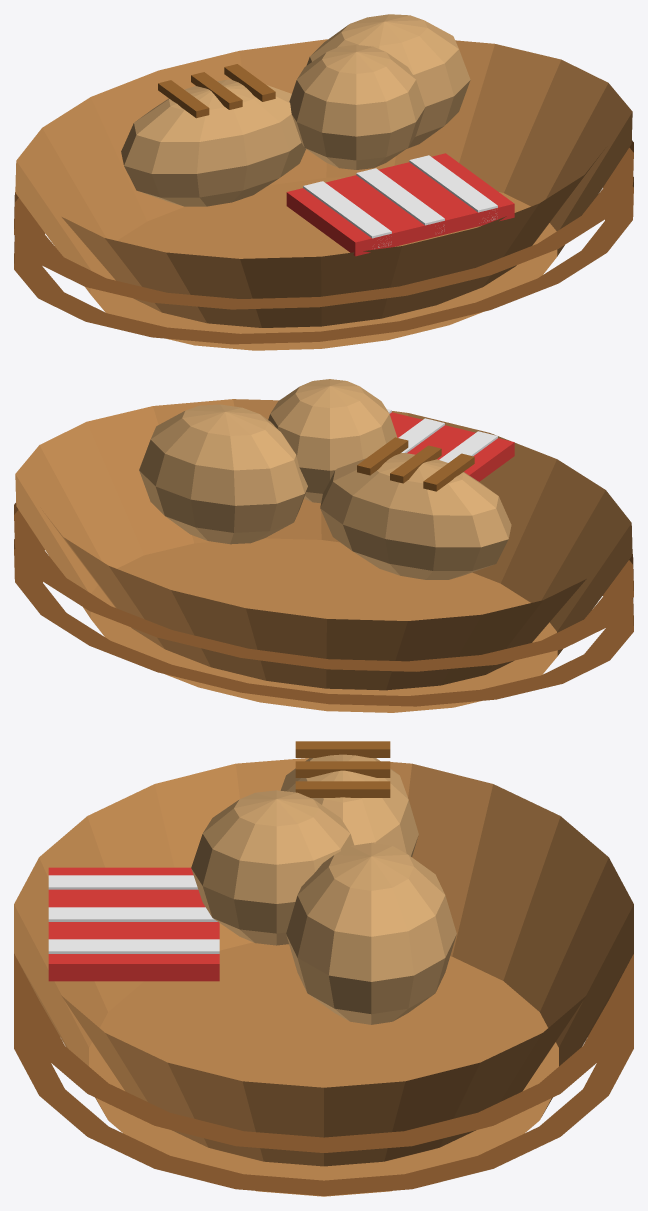
Rendered from brodkorg.glb.
3 views of the same model, one above another, from view 1: azimuth 30°, elevation 25°; view 2: azimuth 150°, elevation 25°; view 3: azimuth 270°, elevation 25° (orthographic). The views are drawn at different scales.
Visible parts, largest first — view 1: brodkorg; view 2: brodkorg; view 3: brodkorg.
Boxes of the visible parts, x1,y1,x2,y2 form: brodkorg: (14,14,633,350); brodkorg: (14,379,633,712); brodkorg: (14,741,633,1196).
Bounding box in the file's own units: 0.862 × 0.32 × 0.6533.
